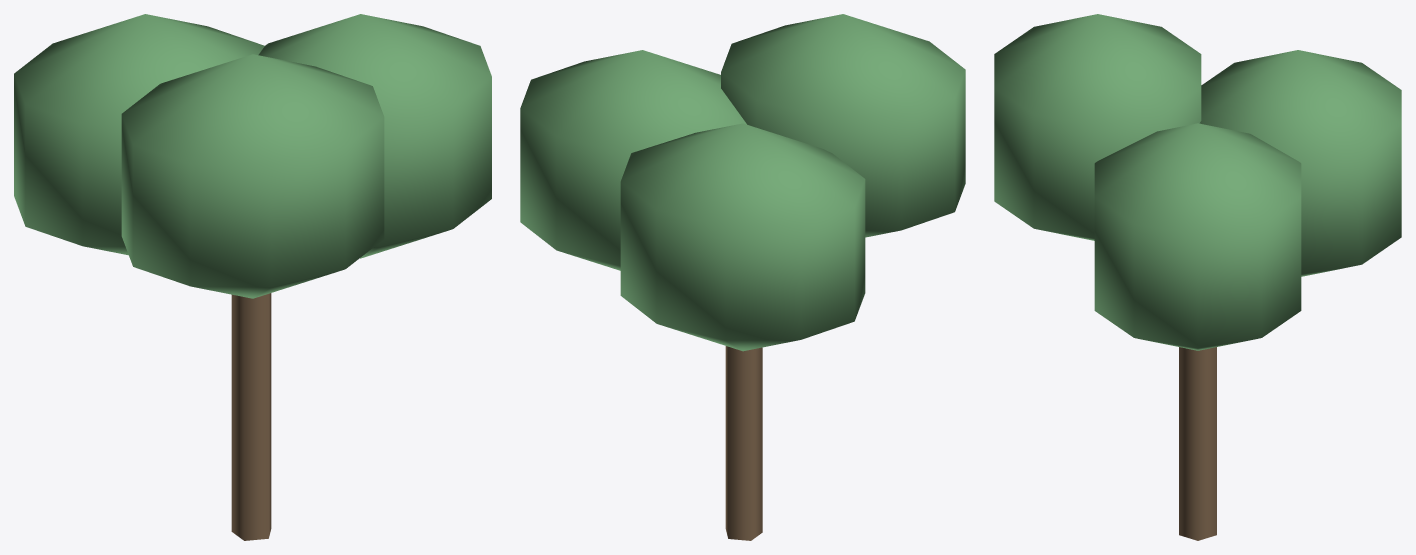
Rendered from mid.glb.
3 renders of one model, left to right at view 1: azimuth 30°, elevation 25°; view 2: azimuth 150°, elevation 25°; view 3: azimuth 270°, elevation 25°, orthographic. The views are drawn at different scales.
Parts seen in each view (by area): view 1: EnvironmentAsset; view 2: EnvironmentAsset; view 3: EnvironmentAsset.
Part boxes in pixels (<box>): EnvironmentAsset: <box>14,14,491,540</box>; EnvironmentAsset: <box>520,14,965,540</box>; EnvironmentAsset: <box>994,14,1401,540</box>.
Size of the model in its own units: 1.3 by 1.65 by 1.23.
